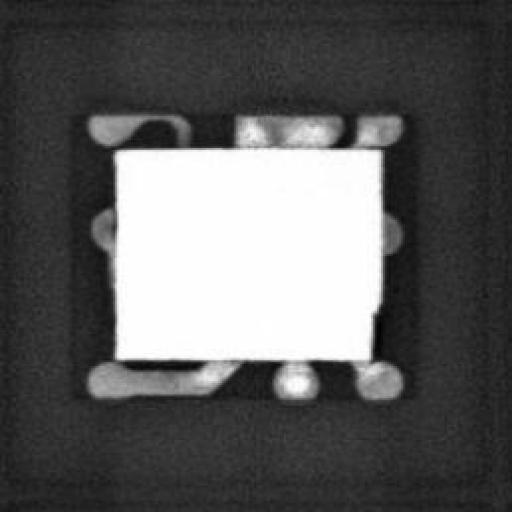DIE_BROKEN: (365, 300, 383, 362)
